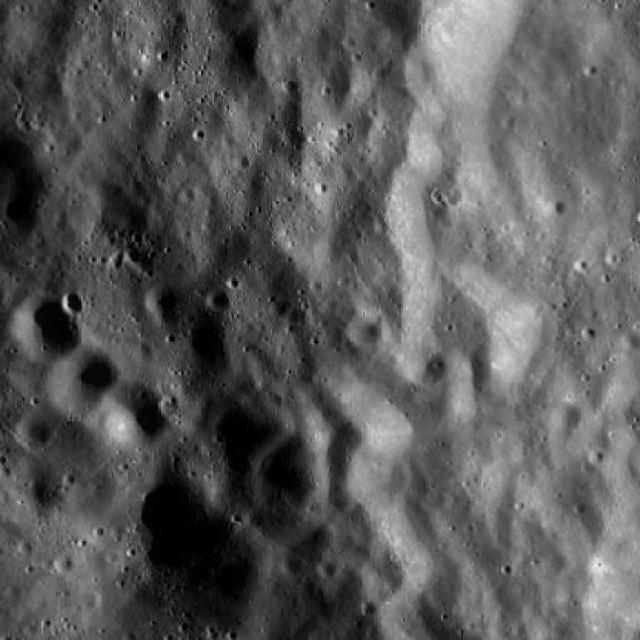crater: (111, 2, 190, 78), (46, 346, 122, 420), (9, 296, 82, 366), (97, 381, 168, 450), (248, 449, 312, 511), (9, 0, 77, 57), (8, 463, 66, 519), (402, 343, 444, 386), (346, 314, 382, 349), (15, 416, 50, 450), (145, 284, 178, 318), (550, 401, 582, 432), (154, 304, 178, 330), (206, 291, 229, 314), (62, 292, 84, 314), (158, 396, 178, 416), (281, 556, 301, 576), (621, 328, 640, 349), (317, 559, 337, 578), (55, 554, 73, 574), (268, 300, 287, 318), (132, 342, 151, 360), (124, 246, 142, 263), (548, 200, 564, 216), (0, 464, 12, 481), (0, 1, 1, 2)
